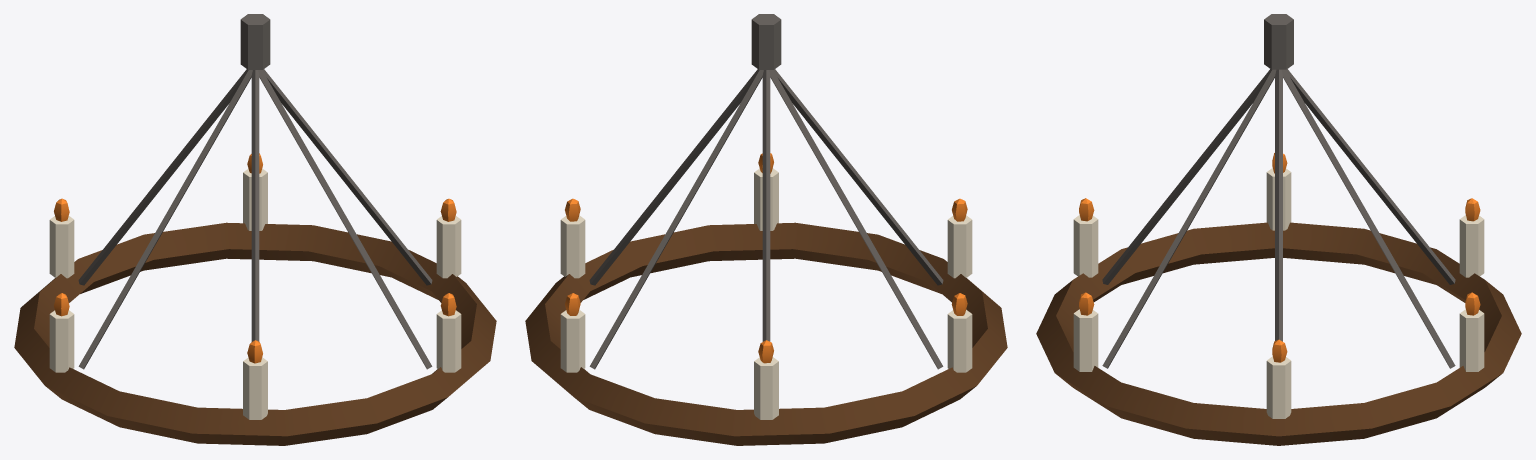
The model's file is PR_Decor_Avize.fbx.
3 views of the same model, side by side, from view 1: azimuth 30°, elevation 25°; view 2: azimuth 150°, elevation 25°; view 3: azimuth 270°, elevation 25° (orthographic).
Visible parts, largest first — view 1: PR_Decor_Avize; view 2: PR_Decor_Avize; view 3: PR_Decor_Avize.
Boxes of the visible parts, box(x1,y1,x2,y2) form: PR_Decor_Avize: box(14, 14, 496, 445); PR_Decor_Avize: box(525, 14, 1007, 445); PR_Decor_Avize: box(1036, 14, 1521, 445).
Bounding box in the file's own units: 0.98 × 0.74 × 0.98.
1 material, 1 textured.
